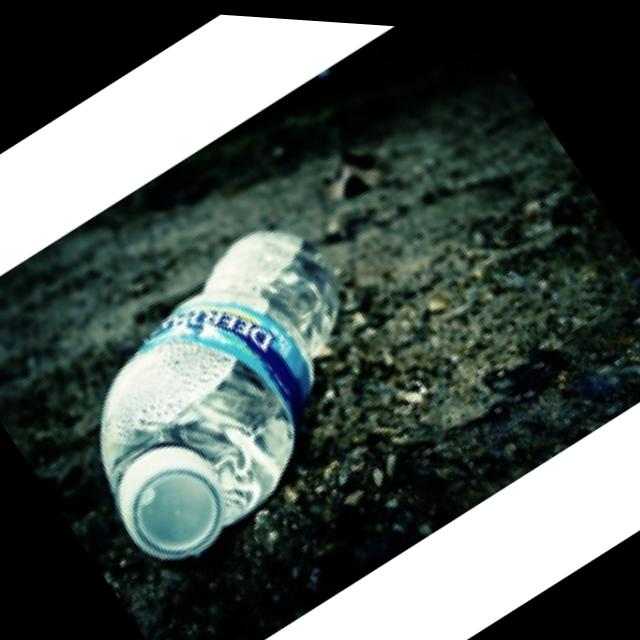plastic_water_bottles: (11, 178, 428, 605)
